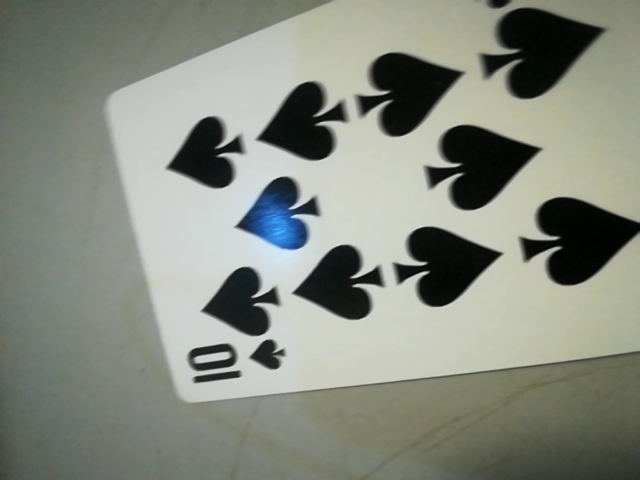ht 10: (169, 316, 293, 397)
